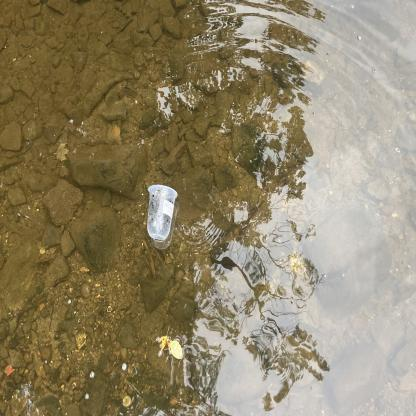trash: (142, 181, 180, 240)
